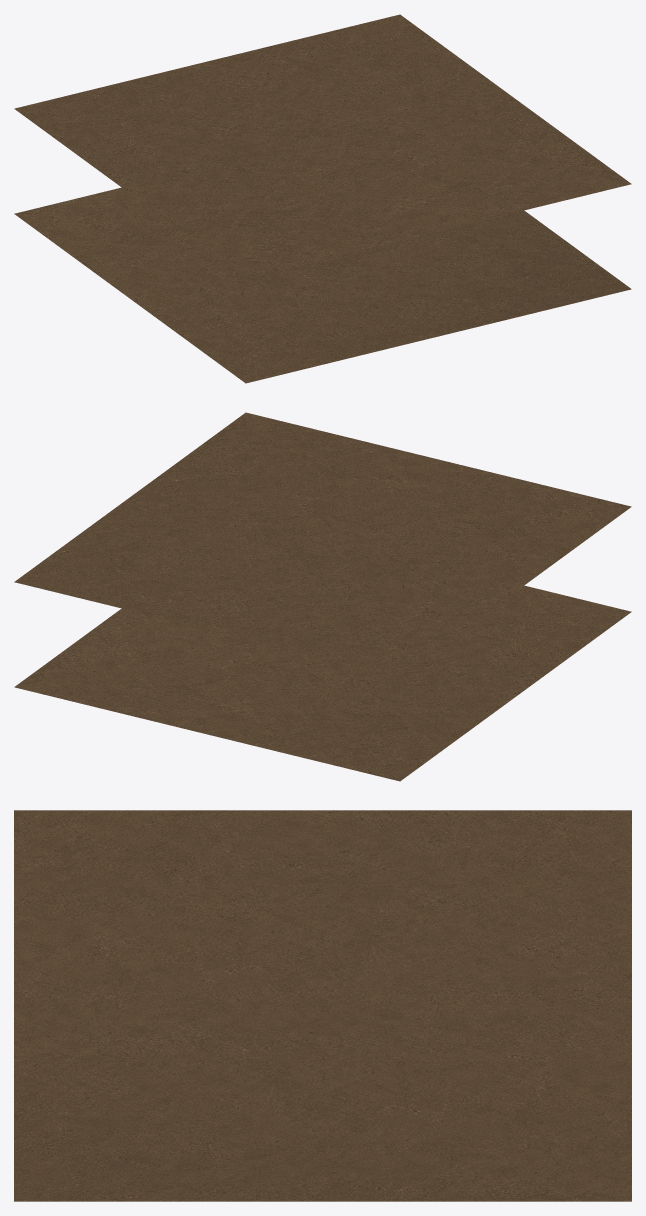
The model's file is temple_innertop_elevator_floorceiling.fbx.
3 renders of one model, top to bottom at view 1: azimuth 30°, elevation 25°; view 2: azimuth 150°, elevation 25°; view 3: azimuth 270°, elevation 25°, orthographic. The views are drawn at different scales.
Parts seen in each view (by area): view 1: innertop.004; view 2: innertop.004; view 3: innertop.004.
Boxes of the visible parts, x1,y1,x2,y2 form: innertop.004: (14,14,631,383); innertop.004: (14,412,631,781); innertop.004: (14,810,631,1201).
Size of the model in its own units: 140 by 36.53 by 146.
